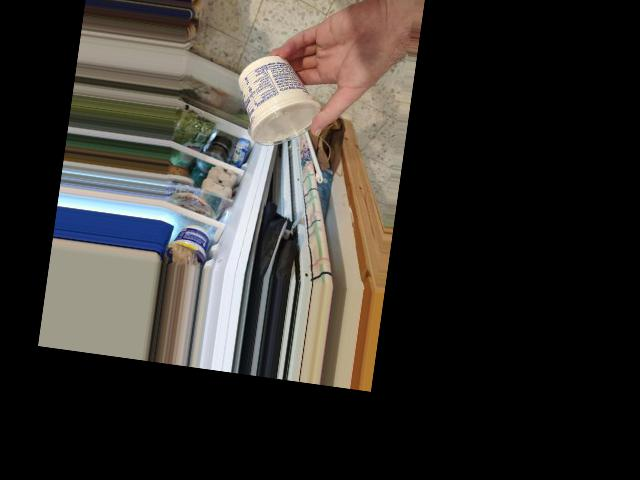cotage: (233, 61, 319, 151)
